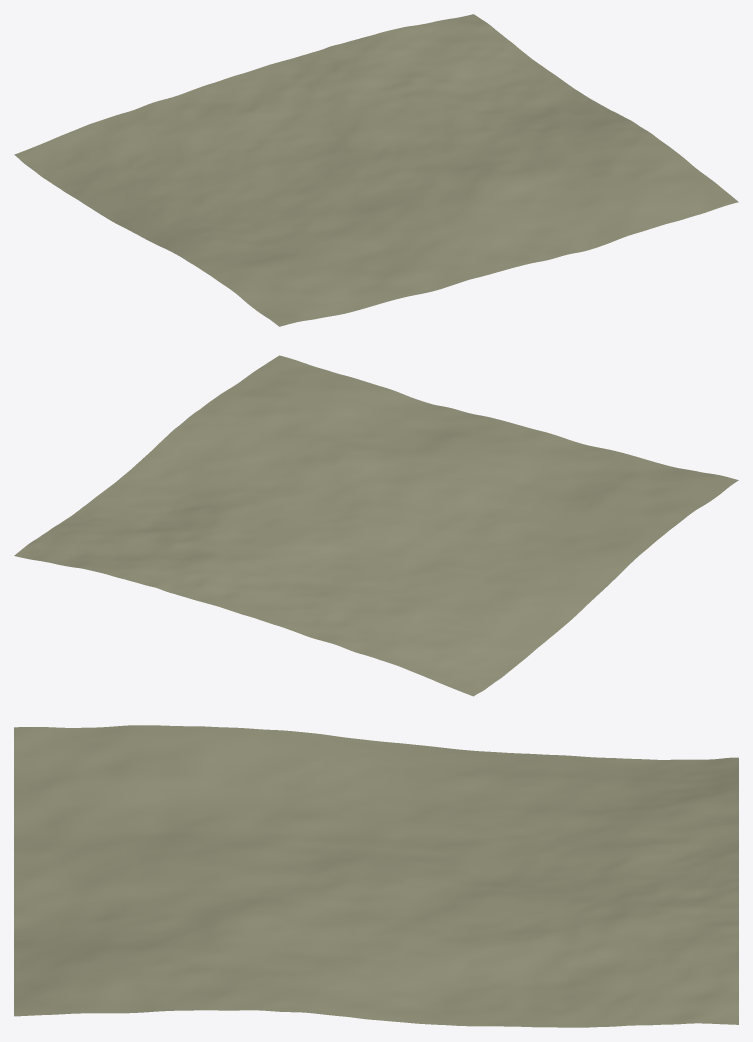
File: SM_VB_CityTerrain_9_6.fbx
3 views of the same model, one above another, from view 1: azimuth 30°, elevation 25°; view 2: azimuth 150°, elevation 25°; view 3: azimuth 270°, elevation 25° (orthographic). The views are drawn at different scales.
Parts seen in each view (by area): view 1: SM_VB_CityTerrain_9_6; view 2: SM_VB_CityTerrain_9_6; view 3: SM_VB_CityTerrain_9_6.
Boxes of the visible parts, bbox=[...] form: SM_VB_CityTerrain_9_6: bbox=[14, 14, 738, 326]; SM_VB_CityTerrain_9_6: bbox=[14, 355, 738, 696]; SM_VB_CityTerrain_9_6: bbox=[14, 725, 738, 1027].
Size of the model in its own units: 600 by 51.3 by 600.
